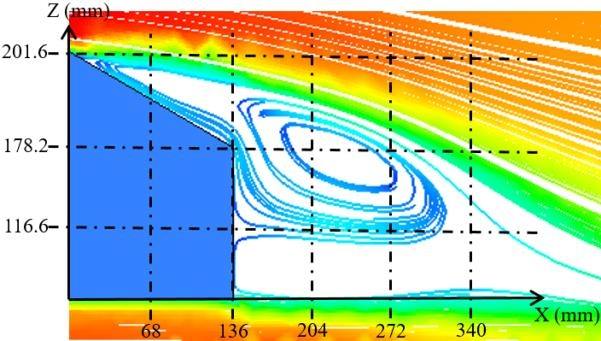vortox: (236, 99, 446, 243)
